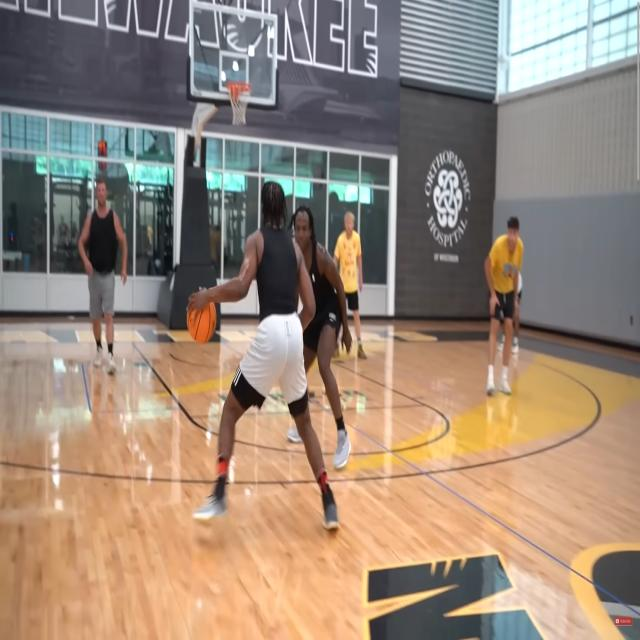Basketball: (187, 300, 217, 345)
Basketball Rim: (227, 80, 251, 126)
Player: (184, 182, 342, 531), (80, 180, 128, 376), (480, 214, 522, 396), (332, 211, 368, 363)
